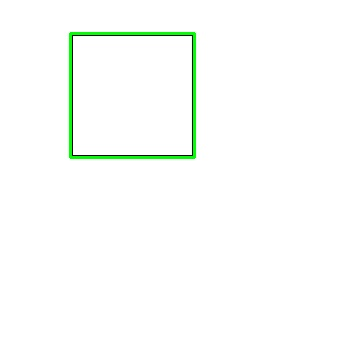line_segment: (69, 32, 196, 159)
